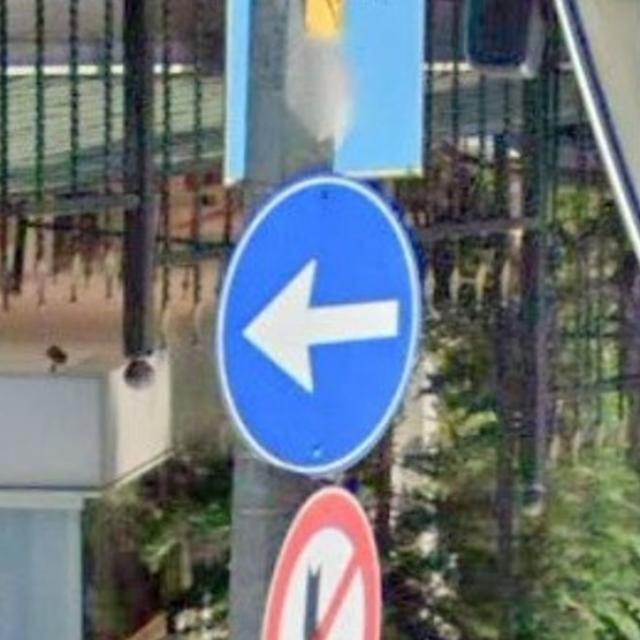Turn Left: (209, 180, 420, 483)
